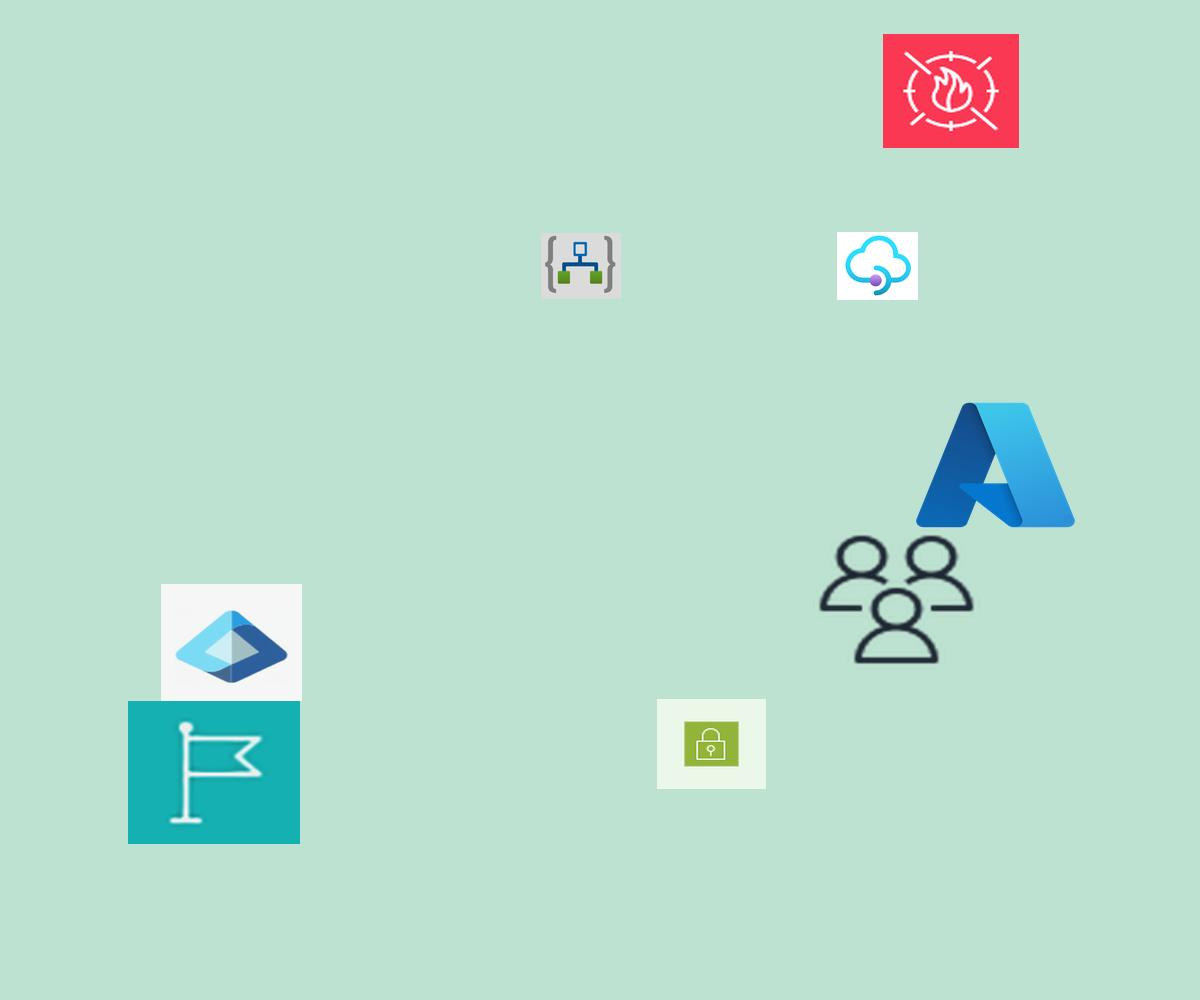AWS-Public-subnet: (657, 699, 766, 789)
AWS-Region: (128, 701, 300, 844)
AWS-Res_Users: (813, 530, 980, 669)
AWS-WAF: (883, 34, 1019, 148)
Azure_api_gateway: (837, 232, 918, 300)
Azure_integration-204-Logic-Apps: (541, 233, 621, 299)
Azure_microsoft_entra: (161, 584, 302, 701)
Azure_services: (909, 393, 1082, 537)
